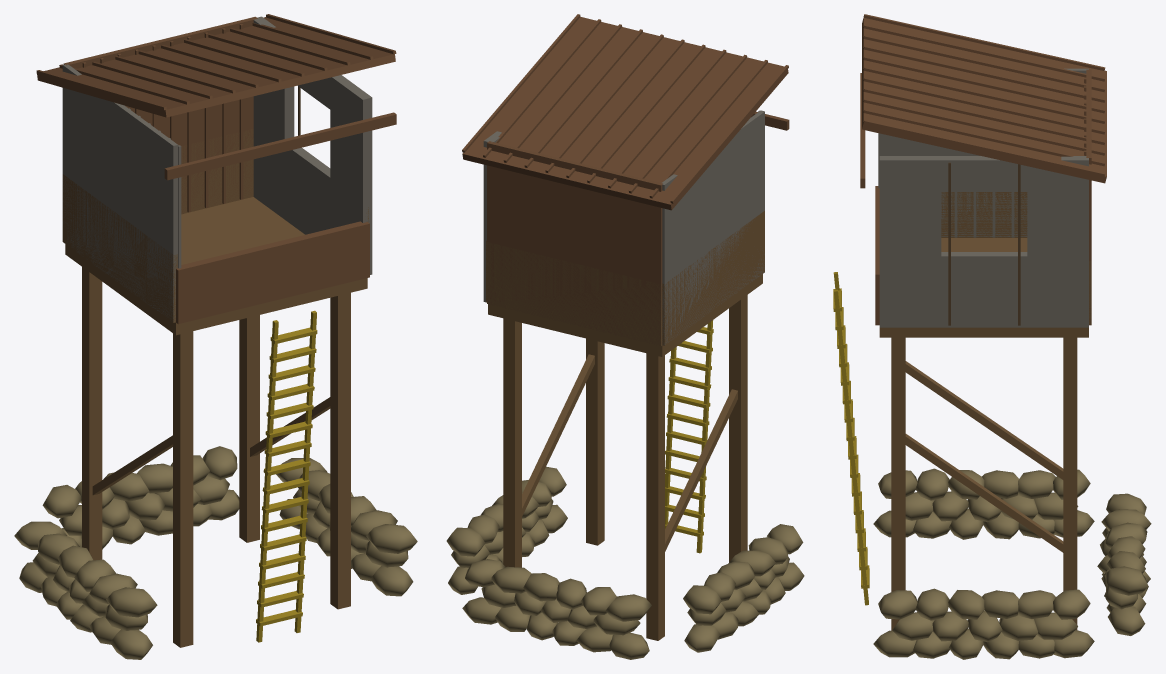
File: bldg_watchtower.glb
The picture shows the model from 3 angles, left to right: view 1: azimuth 30°, elevation 25°; view 2: azimuth 150°, elevation 25°; view 3: azimuth 270°, elevation 25°; orthographic projection. The views are drawn at different scales.
Visible parts, largest first — view 1: Bldg_Watchtower, WallPanel_Tin (×2), SandbagBasePanel (×3), WallPanel_Finished, RoofDeck, LoftPlatform, RoofPanel_Sloped, Ladder, Deck; view 2: WallPanel_Tin (×2), RoofDeck, SandbagBasePanel (×3), Bldg_Watchtower, LoftPlatform, RoofPanel_Sloped, Ladder, Deck, WallPanel_Finished; view 3: WallPanel_Finished, SandbagBasePanel (×3), RoofDeck, RoofPanel_Sloped, Bldg_Watchtower, WallPanel_Tin (×2), LoftPlatform, Deck, Ladder.
Part boxes in pixels (box(x1,y1,x2,y2)): Bldg_Watchtower: box(82, 221, 369, 647); WallPanel_Tin (×2): box(62, 16, 257, 321); SandbagBasePanel (×3): box(14, 446, 417, 659); WallPanel_Finished: box(253, 16, 372, 274); RoofDeck: box(37, 17, 395, 117); LoftPlatform: box(62, 129, 369, 322); RoofPanel_Sloped: box(36, 14, 396, 180); Ladder: box(256, 310, 317, 642); Deck: box(65, 197, 367, 335); WallPanel_Tin (×2): box(487, 110, 764, 345); RoofDeck: box(462, 17, 788, 210); SandbagBasePanel (×3): box(446, 466, 804, 659); Bldg_Watchtower: box(503, 295, 747, 640); LoftPlatform: box(486, 211, 764, 346); RoofPanel_Sloped: box(462, 14, 789, 203); Ladder: box(665, 320, 713, 553); Deck: box(488, 274, 762, 356); WallPanel_Finished: box(483, 131, 501, 302); WallPanel_Finished: box(879, 156, 1088, 327); SandbagBasePanel (×3): box(873, 468, 1151, 659); RoofDeck: box(862, 18, 1106, 183); RoofPanel_Sloped: box(860, 14, 1105, 188); Bldg_Watchtower: box(875, 186, 1077, 630); WallPanel_Tin (×2): box(878, 68, 1091, 325); LoftPlatform: box(941, 192, 1091, 324); Deck: box(879, 238, 1088, 337); Ladder: box(833, 272, 869, 605).
Size of the model in its own units: 4.53 by 7.8 by 4.26.
